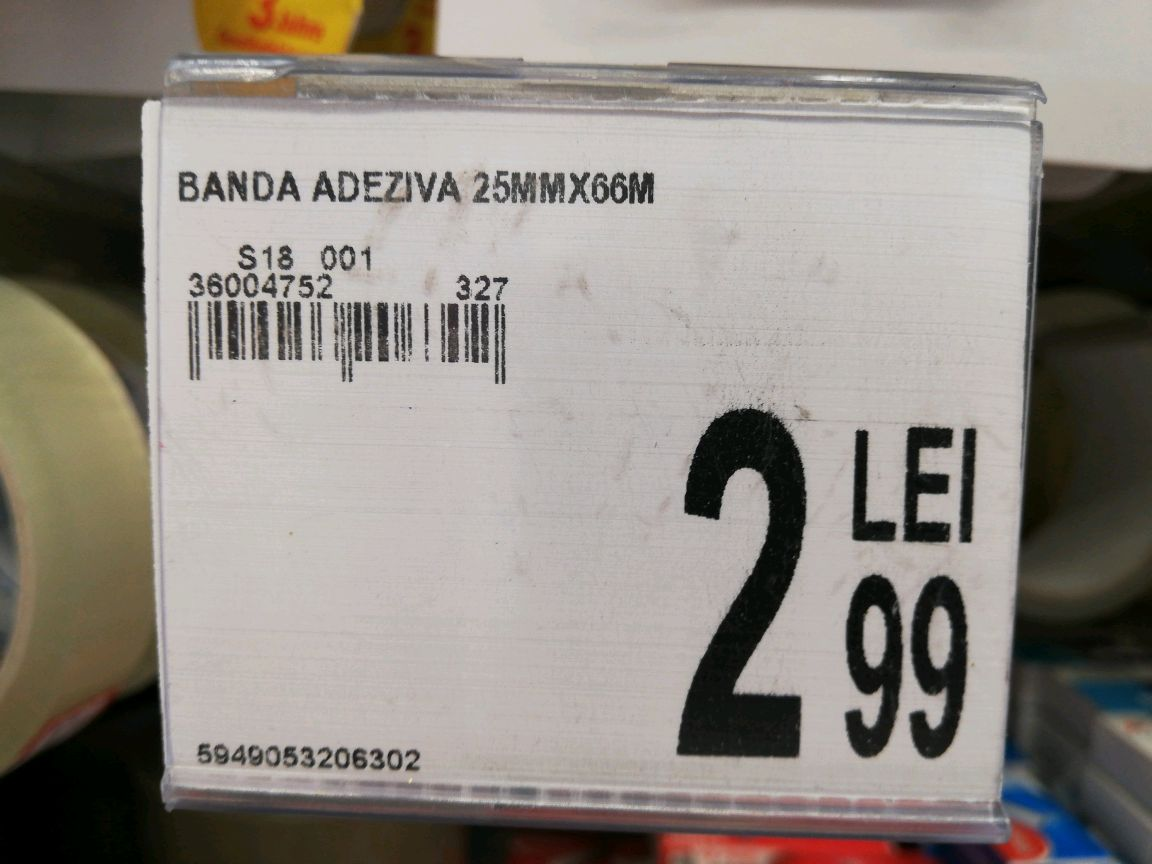price_bani: (831, 562, 976, 772)
price_lei: (661, 399, 818, 771)
price_tag: (129, 90, 1041, 816)
product_id: (190, 737, 431, 785)
product_name: (160, 160, 665, 213)
